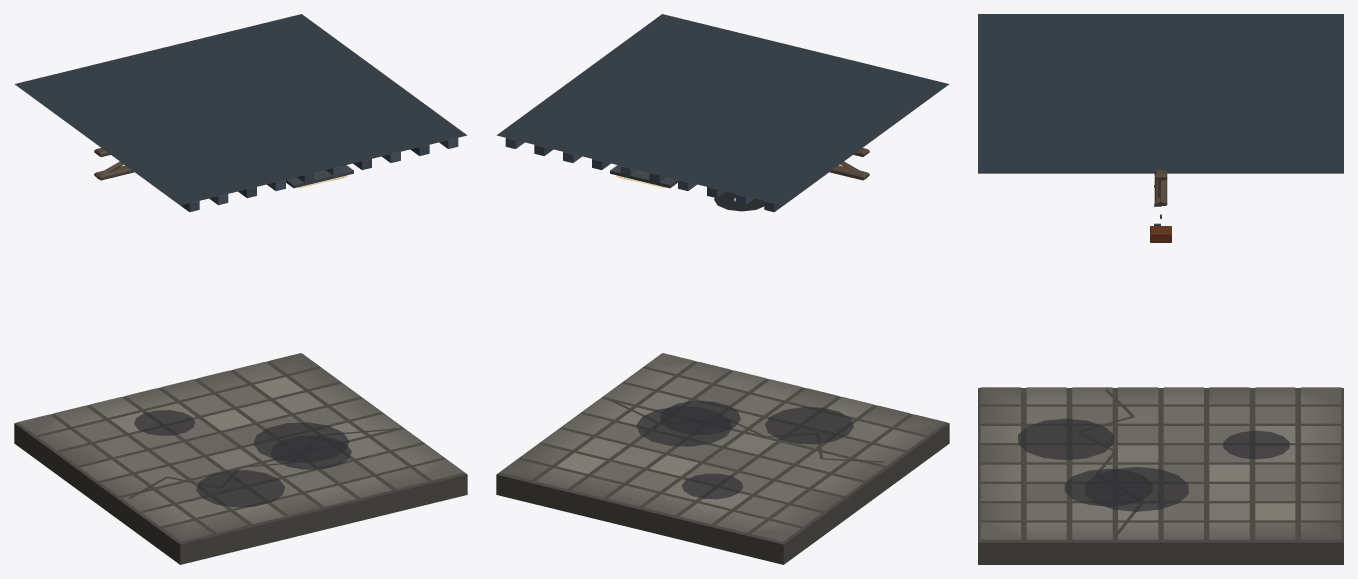
File: floor_c.fbx
The picture shows the model from 3 angles, left to right: view 1: azimuth 30°, elevation 25°; view 2: azimuth 150°, elevation 25°; view 3: azimuth 270°, elevation 25°; orthographic projection. The views are drawn at different scales.
Visible parts, largest first — view 1: floor_c, Ceiling; view 2: floor_c, Ceiling; view 3: floor_c, Ceiling.
Part boxes in pixels (left/top/right/bottom): floor_c: left=14, top=353, right=467, bottom=564; Ceiling: left=14, top=14, right=467, bottom=212; floor_c: left=496, top=353, right=949, bottom=564; Ceiling: left=496, top=14, right=949, bottom=212; floor_c: left=978, top=387, right=1343, bottom=564; Ceiling: left=978, top=14, right=1343, bottom=242.
Bounding box in the file's own units: 4.02 × 4.78 × 4.
